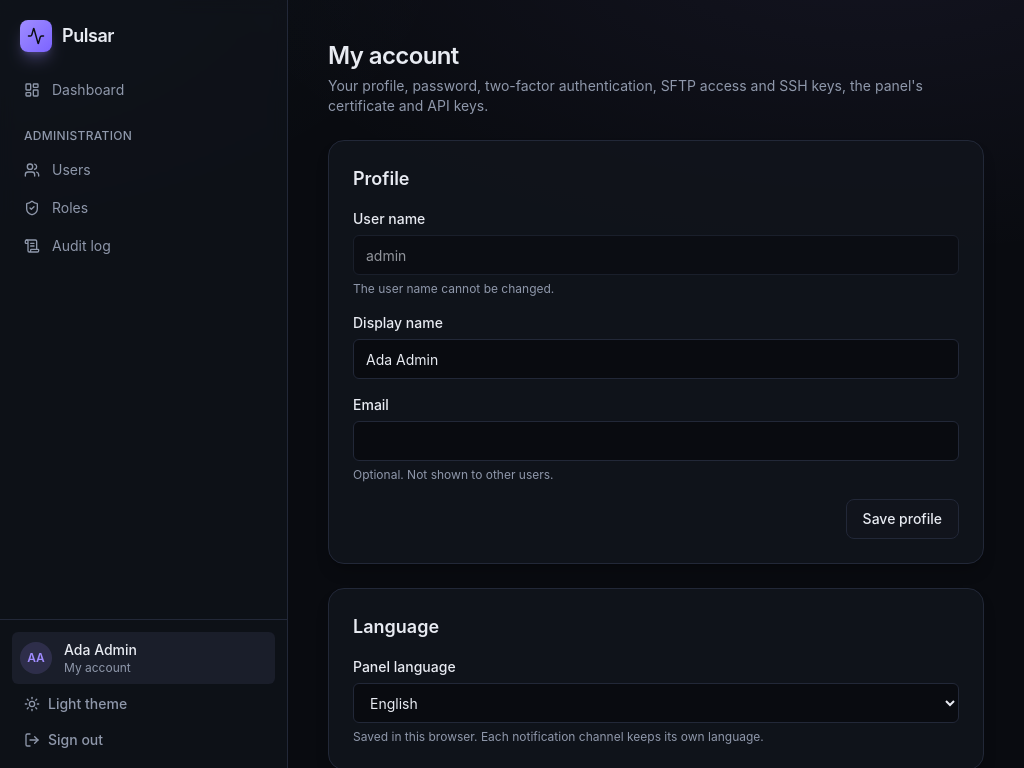
Test case: signing out › says so, and stays signed in, when the panel refuses
The width and height of the screenshot is (1024, 768).
Click the button "Sign out" at (76, 740), box [12,724,275,756]
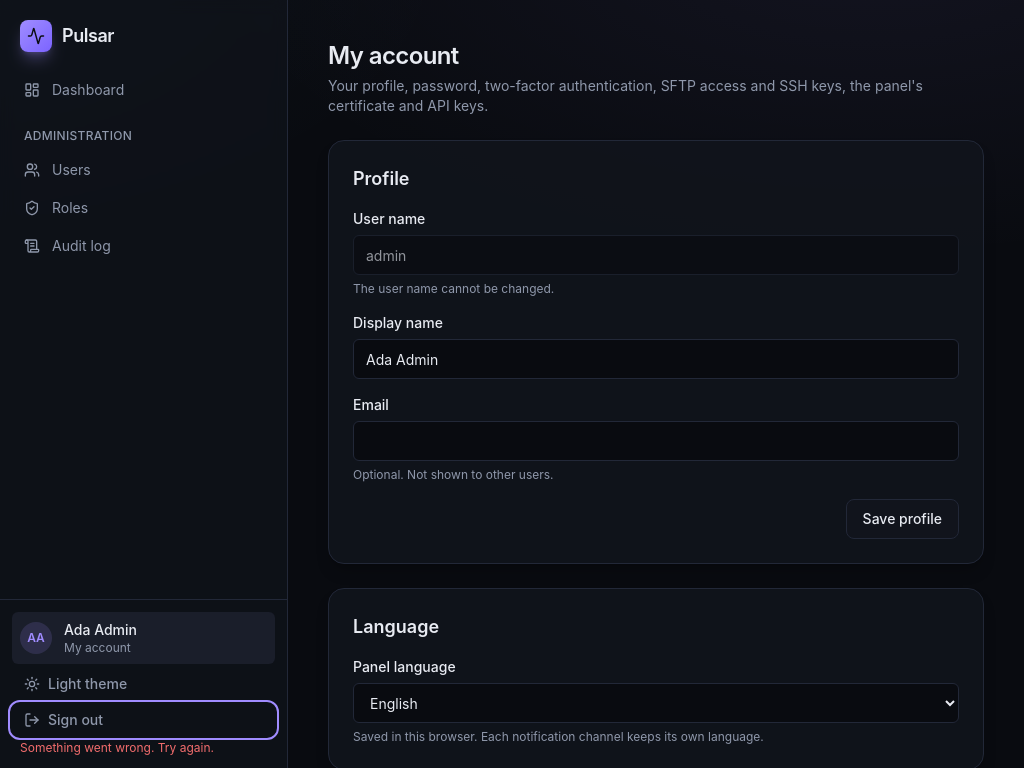
Expected: the button "Sign out" is shown, [12,704,275,736]
Expected: the message "Something went wrong. Try again." is shown, [20,740,214,755]
